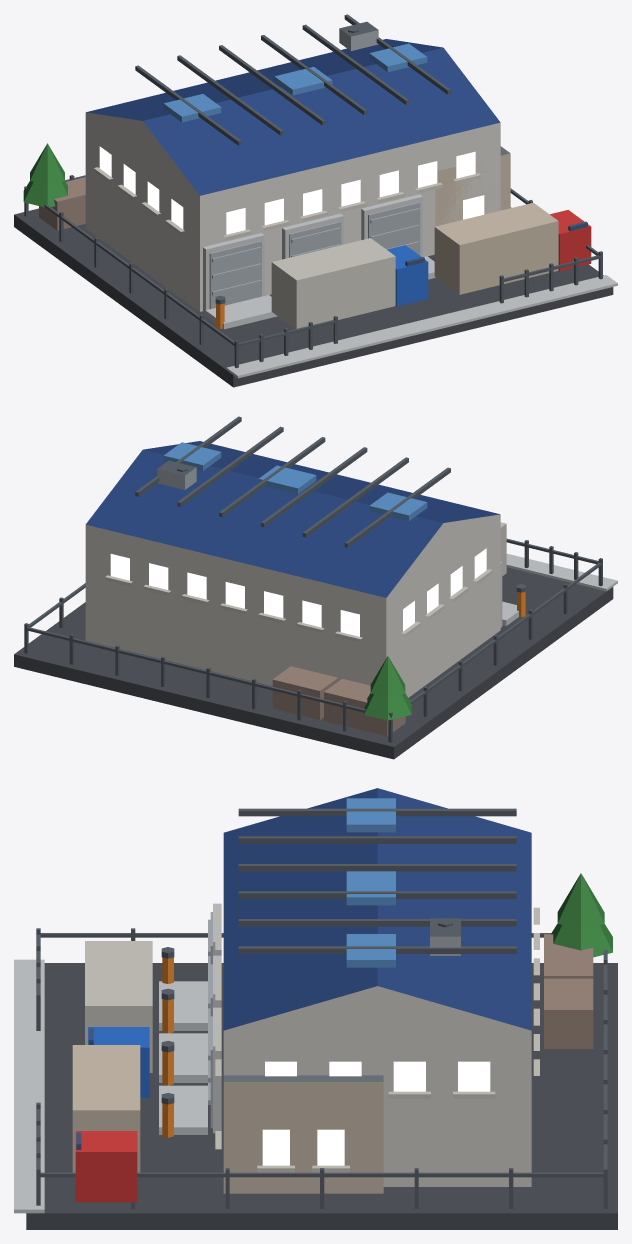
The picture shows the model from 3 angles, top to bottom: view 1: azimuth 30°, elevation 25°; view 2: azimuth 150°, elevation 25°; view 3: azimuth 270°, elevation 25°; orthographic projection. The views are drawn at different scales.
Visible parts, largest first — view 1: b36_v2; view 2: b36_v2; view 3: b36_v2.
Part boxes in pixels (x1,y1,x2,y2): b36_v2: [14, 14, 617, 387]; b36_v2: [14, 416, 617, 759]; b36_v2: [14, 788, 617, 1229].
Bounding box in the file's own units: 0.97 × 0.429 × 0.98.
